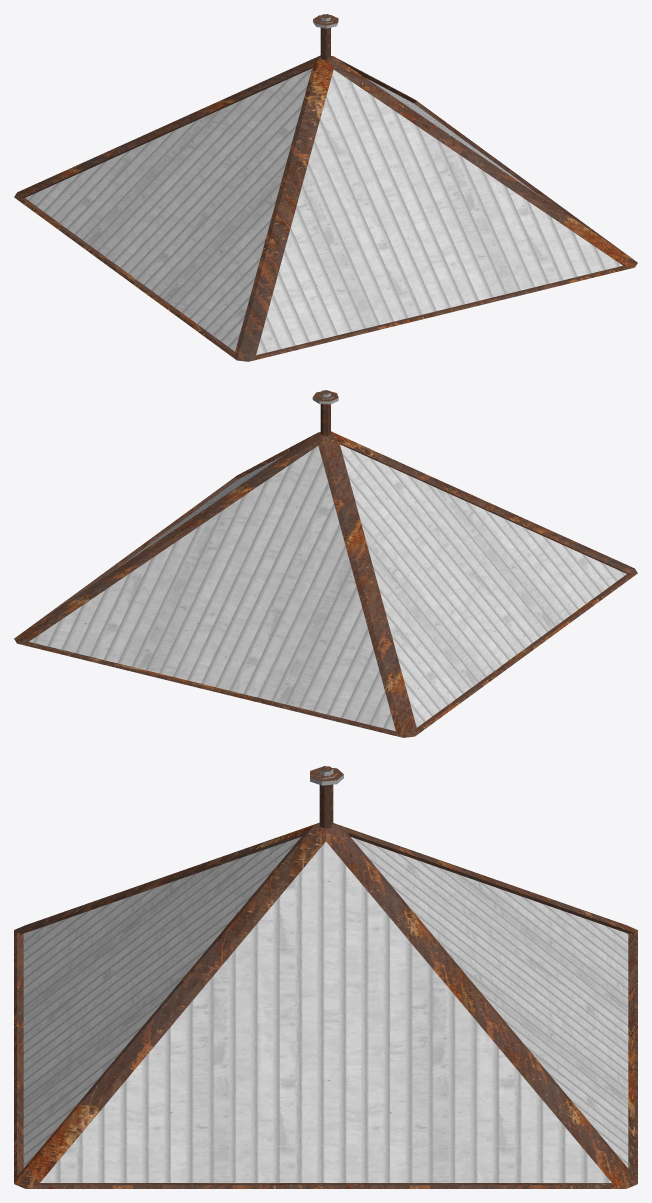
Rendered from Pyramids.fbx.
3 views of the same model, one above another, from view 1: azimuth 30°, elevation 25°; view 2: azimuth 150°, elevation 25°; view 3: azimuth 270°, elevation 25° (orthographic). The views are drawn at different scales.
Visible parts, largest first — view 1: Pyramid, Connector; view 2: Pyramid, Connector; view 3: Pyramid, Connector.
Boxes of the visible parts, x1,y1,x2,y2 form: Pyramid: [14, 55, 637, 361]; Connector: [313, 14, 338, 59]; Pyramid: [14, 431, 637, 737]; Connector: [312, 390, 338, 435]; Pyramid: [14, 822, 637, 1188]; Connector: [310, 766, 343, 827].
Bounding box in the file's own units: 127 × 64.85 × 127.
